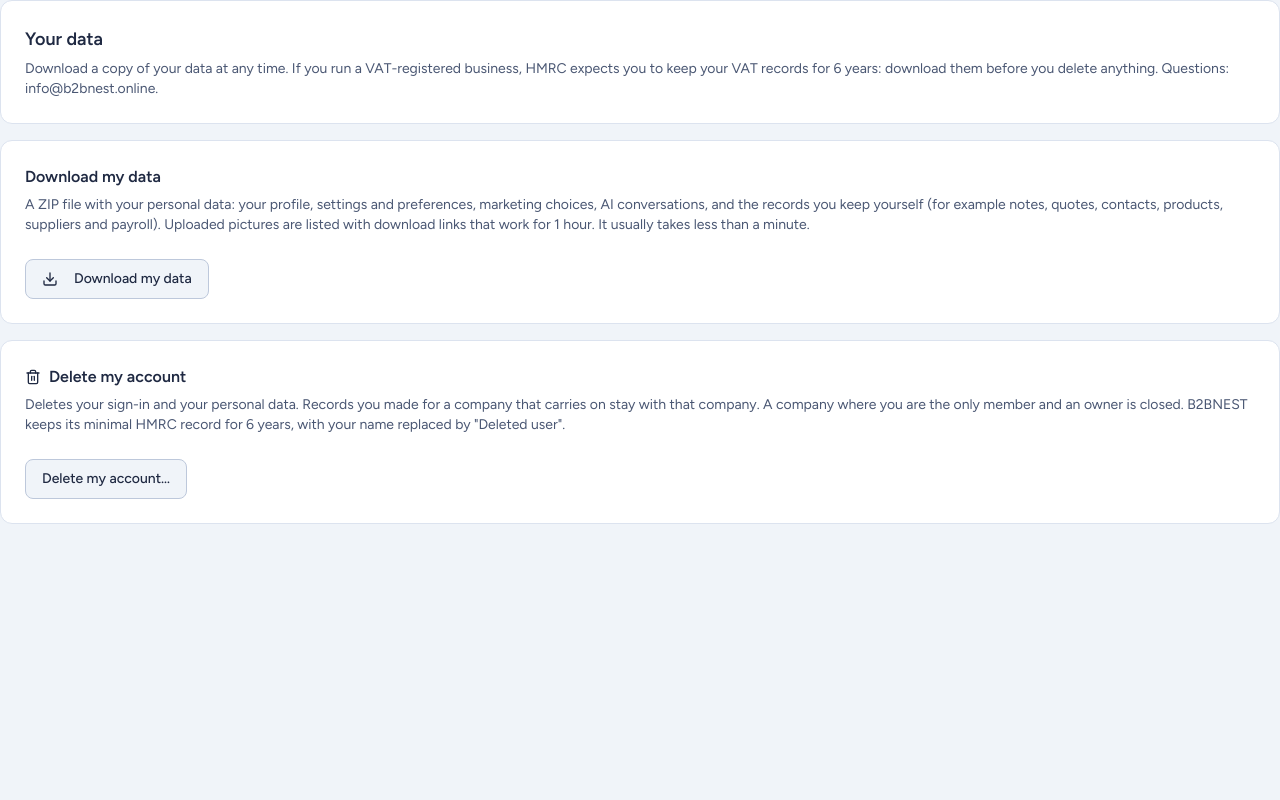
Scenario: Settings → Your data › delete my account: refusals are shown in plain words and nothing else is offered
This screenshot has width=1280, height=800.
Click the button with test id "data-delete-account-start" at (106, 479), box [25,459,187,499]
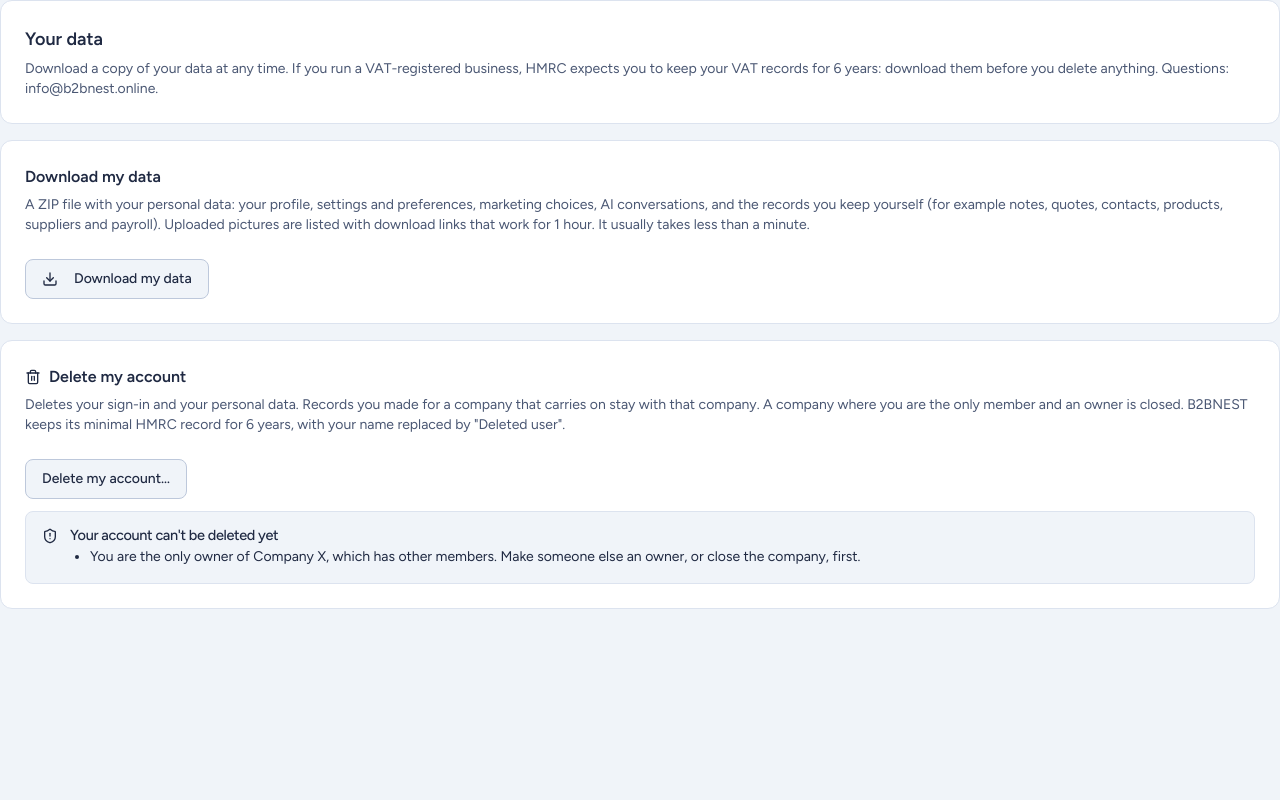
Check: the message with test id "data-delete-account-refused" shows "Your account can't be deleted yet", box [70,526,278,544]
Check: the message with test id "data-delete-account-refused" shows "You are the only owner of Company X", box [90,548,860,564]
